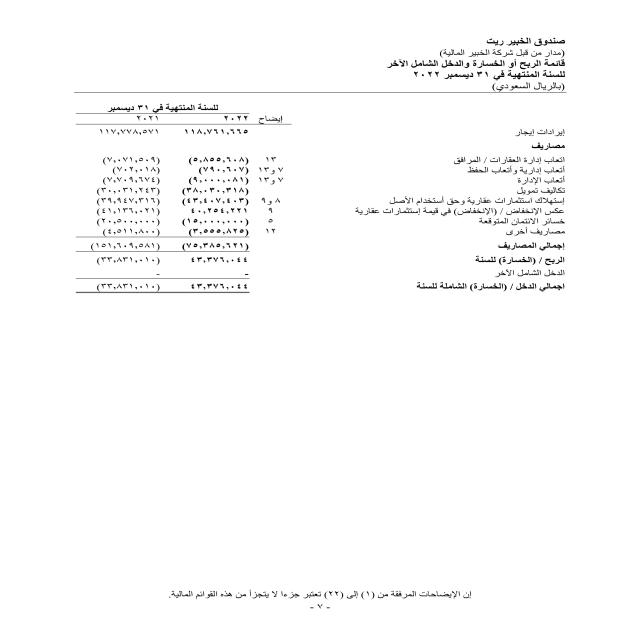financial_sheets: (375, 59, 571, 71)
table: (15, 90, 324, 331)
